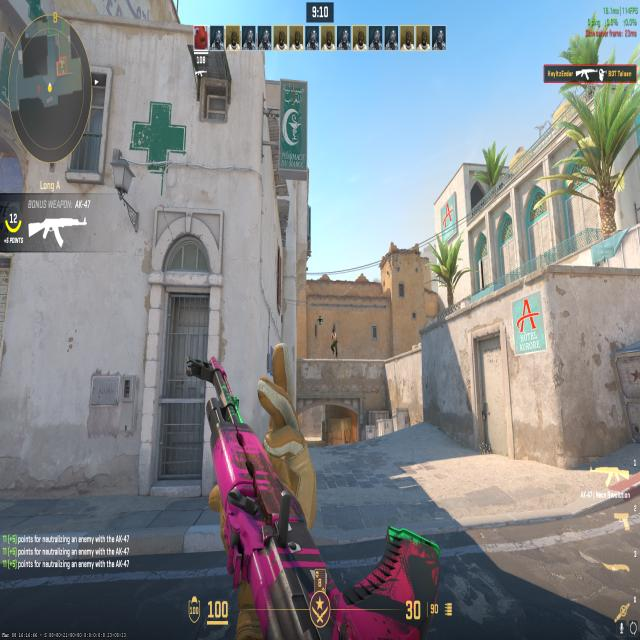t: (330, 324, 338, 356)
